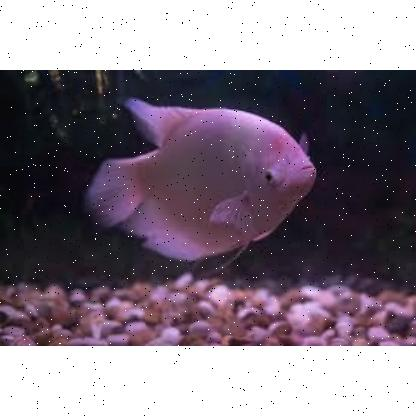gurame: (88, 97, 318, 265)
